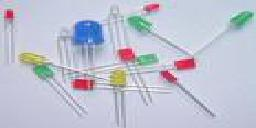LED: (73, 21, 104, 69), (126, 13, 160, 39), (1, 7, 16, 65), (15, 51, 61, 66), (166, 53, 199, 72), (229, 7, 255, 31), (68, 76, 105, 91), (33, 64, 57, 84)
